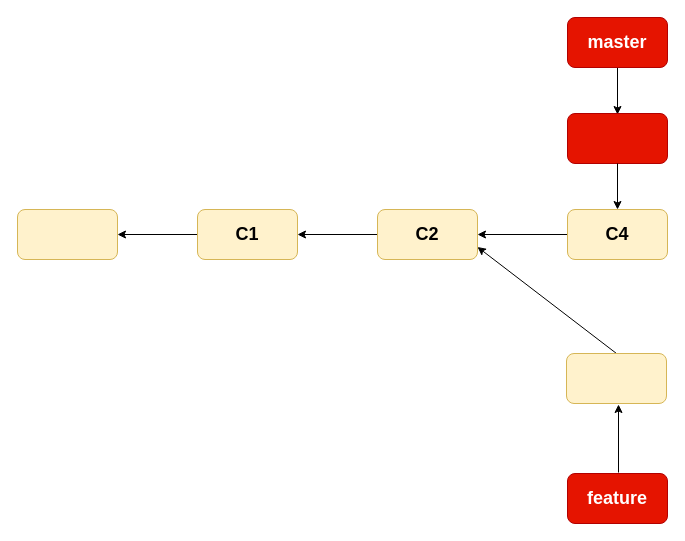
The diagram is 685 pixels wide and 541 high, and some of its shapes have lost their labels. Here are the shapes that lost their labels. From the top down, the centre of each, then its label:
At pixel 617 138: "bug_fix".
At pixel 67 234: "C0".
At pixel 616 378: "C3".
